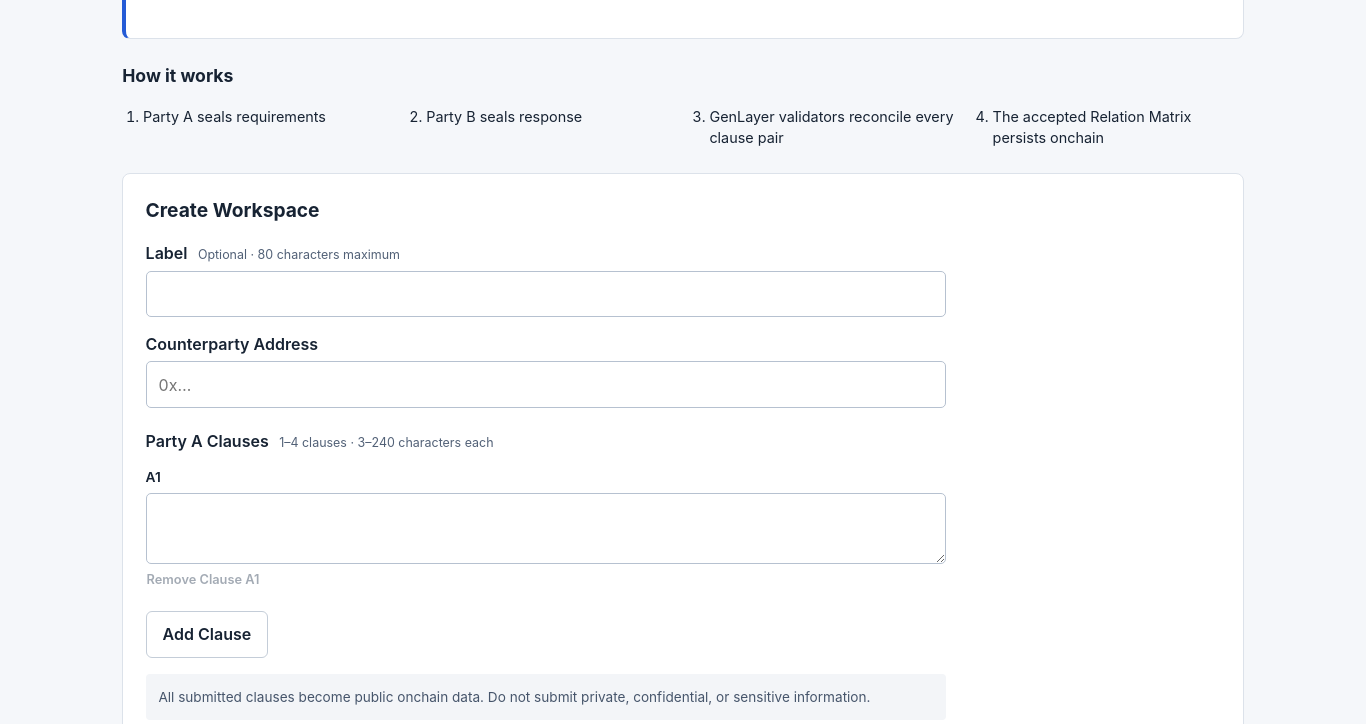
Test: implementation defect regressions › write rejected before tx submission remains visible as friendly wallet error
(page scrolled)
Type "0x2222222222222222222222222222222222222222" into the field labelled "Counterparty Address". click: (546, 385)
box: [146,361,946,408]
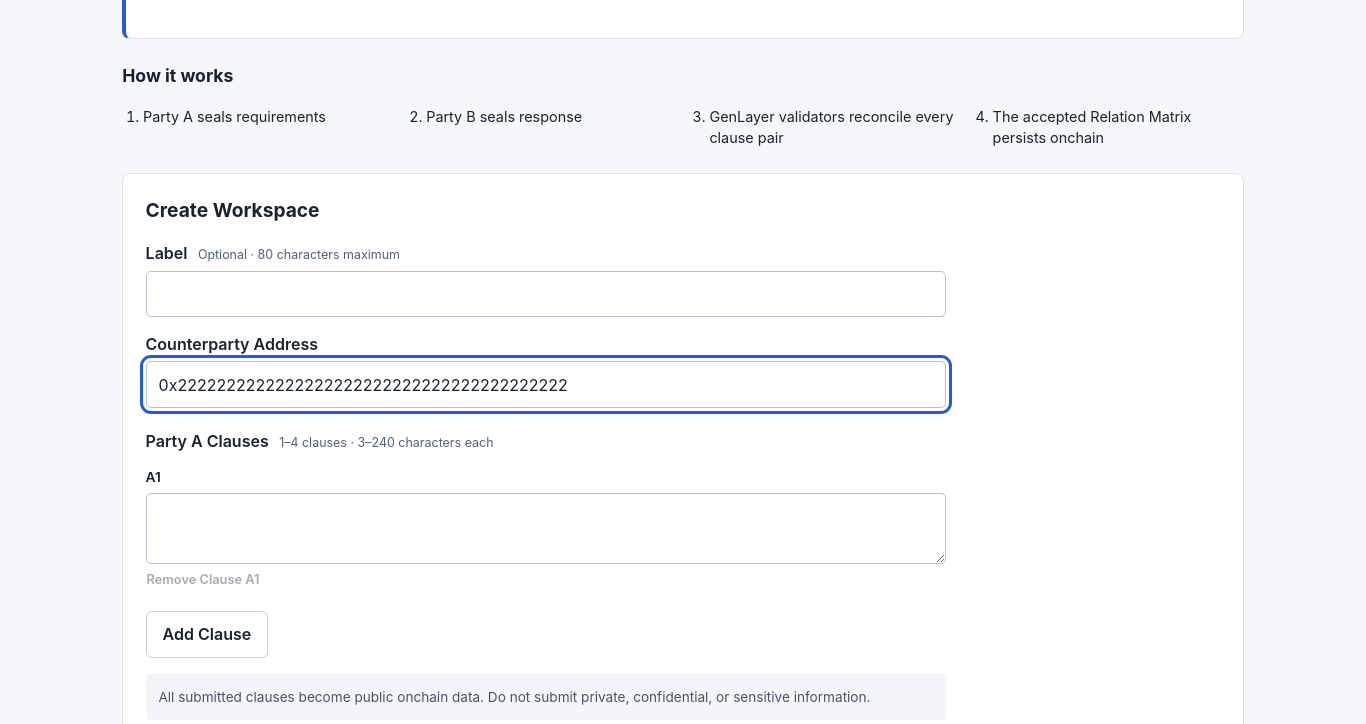
Type "Monthly invoices are required." into the text box labelled "A1". click: (546, 529)
box: [146,494,946,564]
(page scrolled)
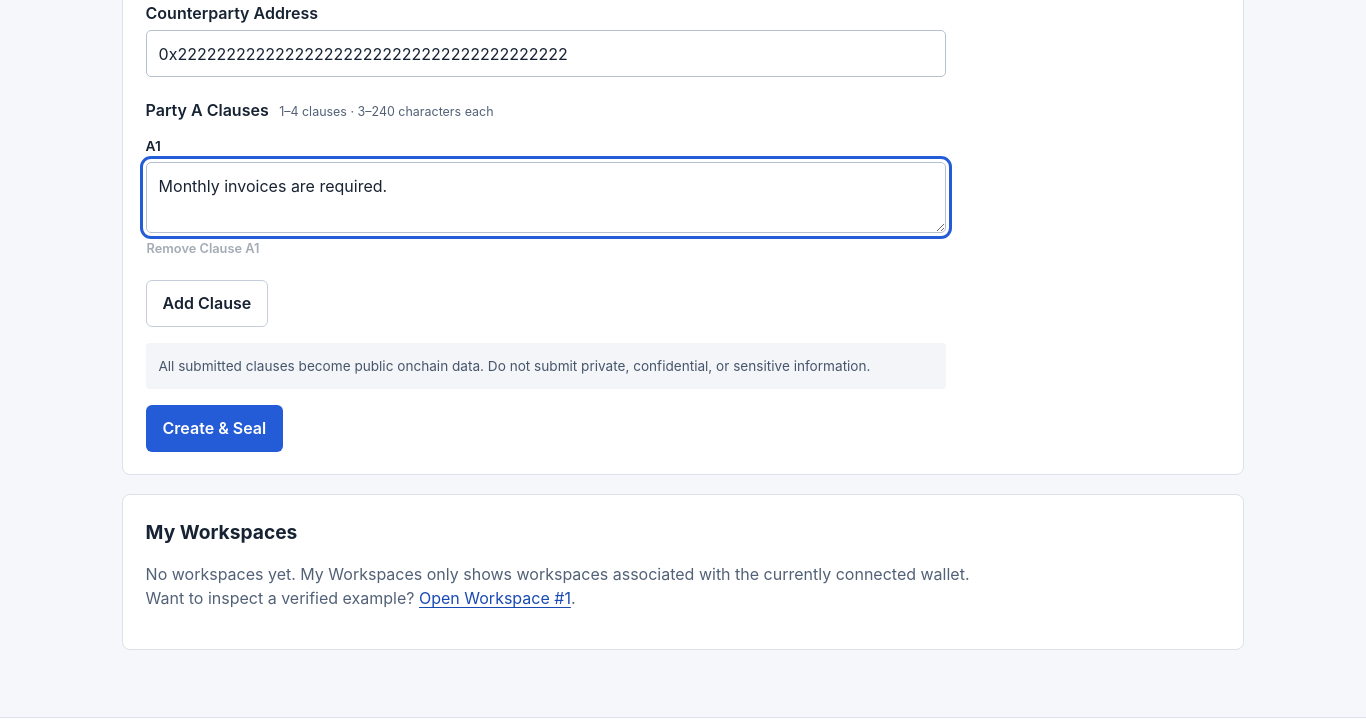
Click the button "Create & Seal". click: click(214, 428)
box: [146,405,283,452]
(page scrolled)
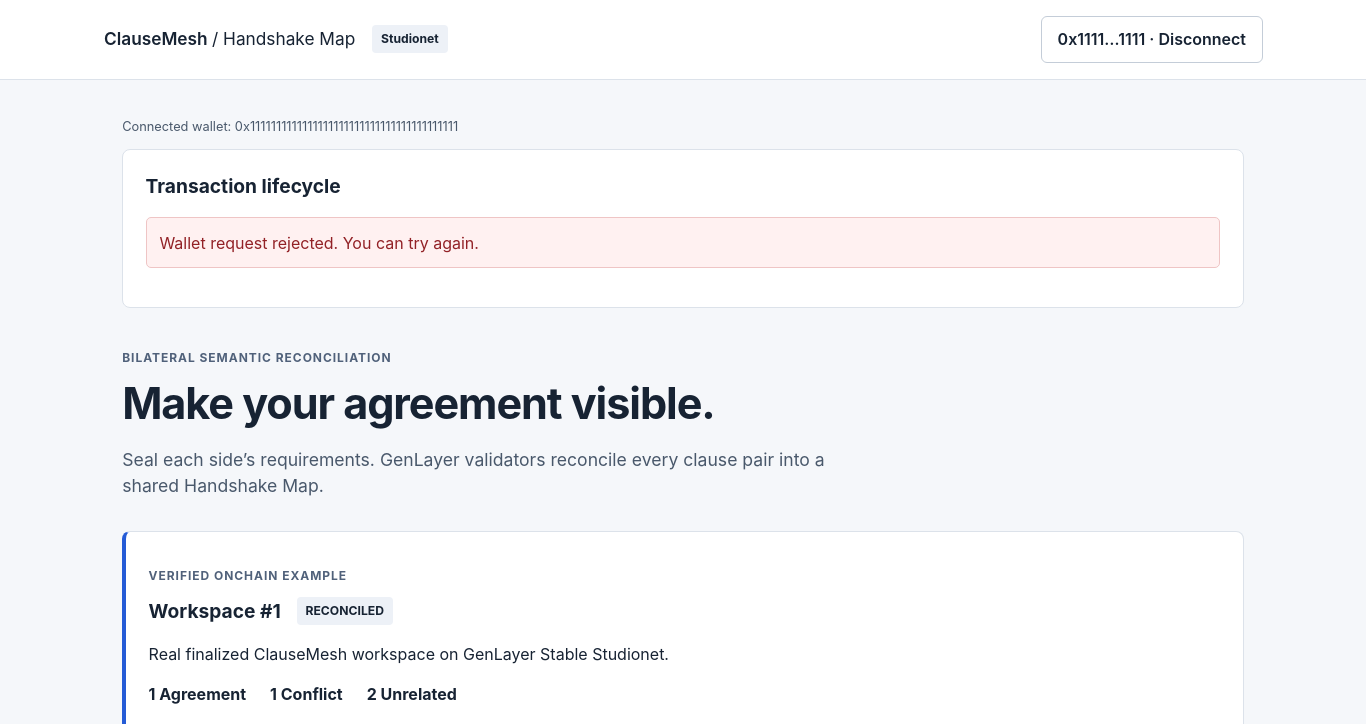
Now the text "Wallet request rejected. You can try again." is shown, box [146,217,1220,268]
